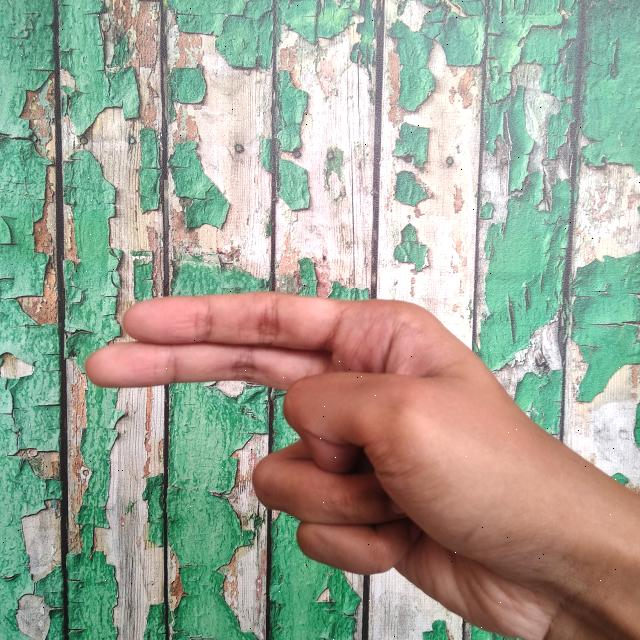H: (79, 289, 640, 640), (84, 290, 640, 640)
